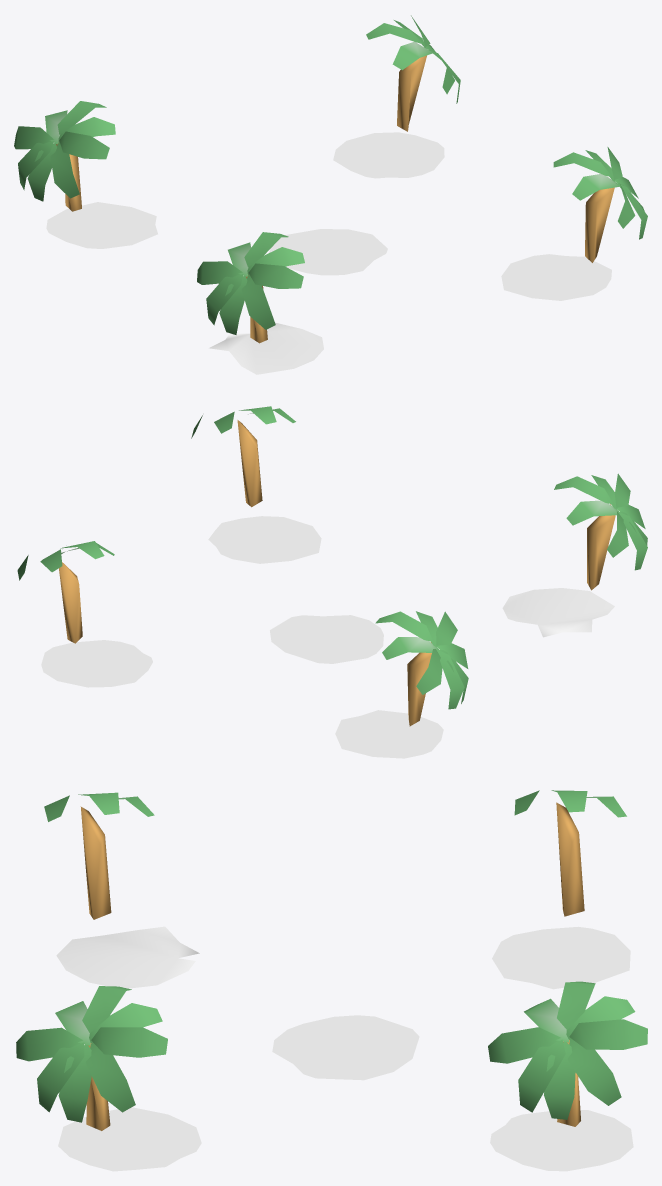
The model's file is map2_old.glb.
3 renders of one model, top to bottom at view 1: azimuth 30°, elevation 25°; view 2: azimuth 150°, elevation 25°; view 3: azimuth 270°, elevation 25°, orthographic. The views are drawn at different scales.
Visible parts, largest first — view 1: Palm_Tree.001, Palm_Tree.002, Cylinder.006, Cylinder.007, Cylinder.008, Palm_Tree, Cylinder.009, Cylinder.005, Palm_Tree.003; view 2: Palm_Tree.002, Palm_Tree.001, Cylinder.009, Cylinder.006, Cylinder.007, Cylinder.008, Cylinder.005, Palm_Tree.003, Palm_Tree; view 3: Palm_Tree.003, Palm_Tree, Cylinder.009, Cylinder.008, Cylinder.006, Cylinder.007, Cylinder.005, Palm_Tree.001, Palm_Tree.002.
Boxes of the visible parts, x1,y1,x2,y2 form: Palm_Tree.001: (197,232,304,343); Palm_Tree.002: (14,101,115,211); Cylinder.006: (501,254,611,300); Cylinder.007: (333,132,444,178); Cylinder.008: (46,202,157,248); Palm_Tree: (553,147,647,262); Cylinder.009: (269,229,387,275); Cylinder.005: (209,322,323,374); Palm_Tree.003: (366,15,460,131); Palm_Tree.002: (375,611,468,726); Palm_Tree.001: (554,473,647,590); Cylinder.009: (270,615,383,663); Cylinder.006: (208,516,321,563); Cylinder.007: (41,640,152,687); Cylinder.008: (335,710,443,758); Cylinder.005: (502,588,614,637); Palm_Tree.003: (17,541,114,643); Palm_Tree: (191,406,295,507); Palm_Tree.003: (488,981,647,1126); Palm_Tree: (16,986,167,1130); Cylinder.009: (272,1015,419,1080); Cylinder.008: (492,926,630,989); Cylinder.006: (58,1107,201,1171); Cylinder.007: (490,1110,633,1171); Cylinder.005: (56,926,199,988); Palm_Tree.001: (44,792,154,919); Palm_Tree.002: (514,790,626,916).
Size of the model in its own units: 2.26 by 0.6234 by 2.2.
